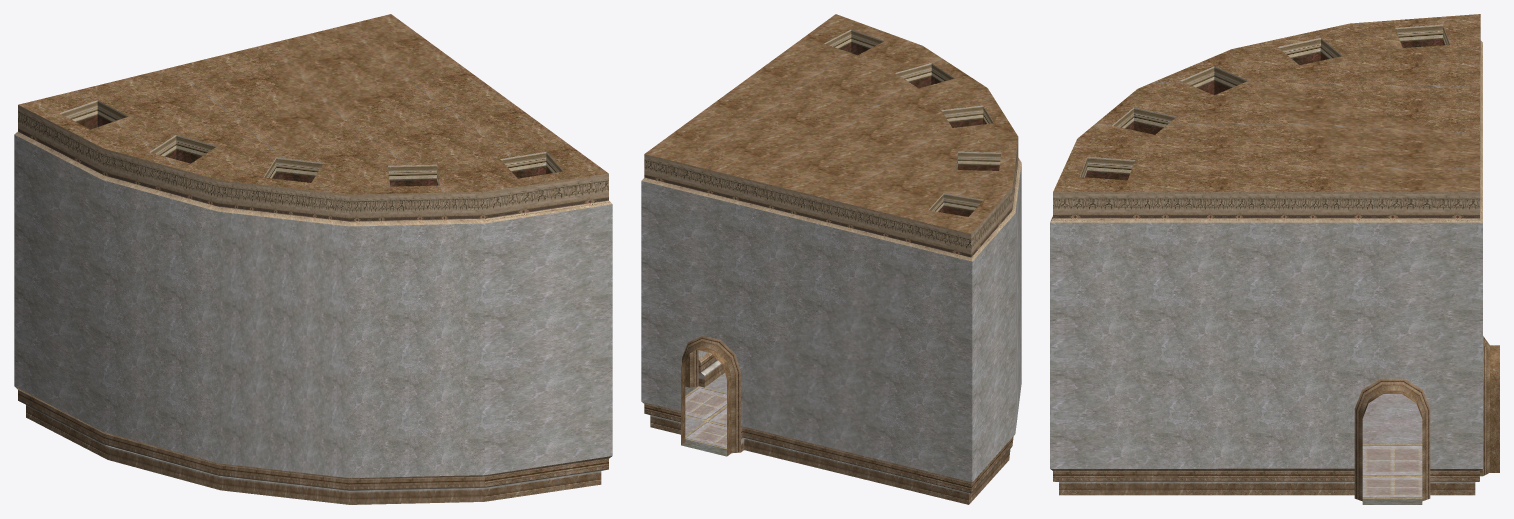
File: thm_nboo_thed_theed_palace_r5_mesh_r5.fbx
The picture shows the model from 3 angles, left to right: view 1: azimuth 30°, elevation 25°; view 2: azimuth 150°, elevation 25°; view 3: azimuth 270°, elevation 25°; orthographic projection. The views are drawn at different scales.
Visible parts, largest first — view 1: mesh_node; view 2: mesh_node; view 3: mesh_node.
Part boxes in pixels (x1,y1,x2,y2): mesh_node: (14, 14, 612, 504); mesh_node: (641, 14, 1021, 504); mesh_node: (1050, 14, 1499, 504).
Size of the model in its own units: 23.6 by 18.01 by 24.04.
